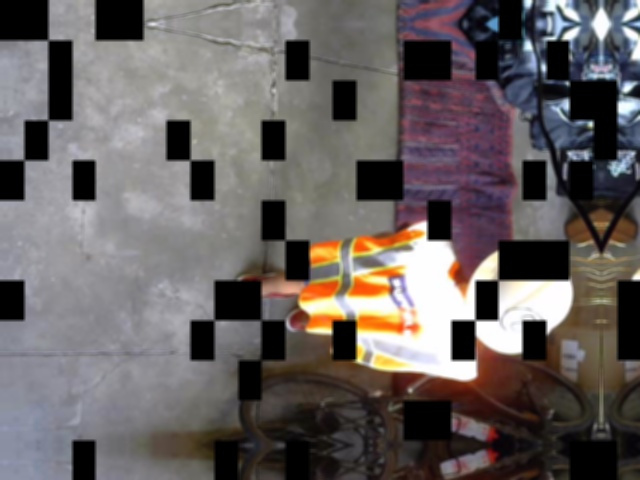eight: (500, 306, 544, 339)
